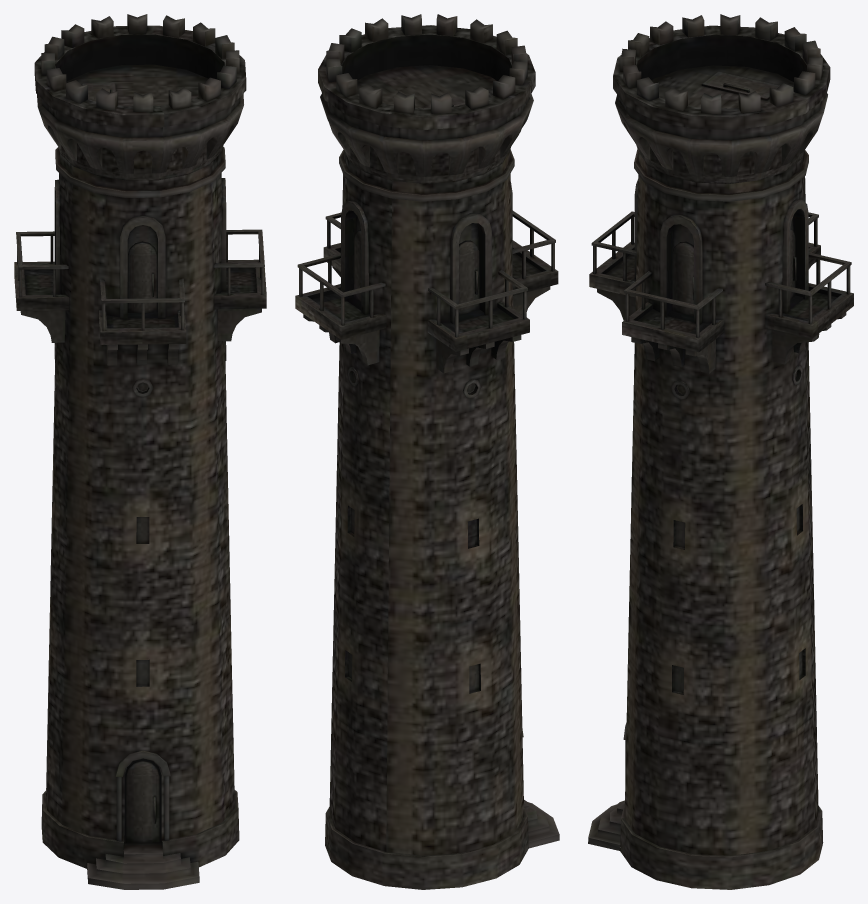
The model's file is kickelhahn_tower.glb.
3 views of the same model, side by side, from view 1: azimuth 30°, elevation 25°; view 2: azimuth 150°, elevation 25°; view 3: azimuth 270°, elevation 25° (orthographic).
Parts seen in each view (by area): view 1: KH_TowerHigh.003; view 2: KH_TowerHigh.003; view 3: KH_TowerHigh.003.
Boxes of the visible parts, left/top/right/bottom form: KH_TowerHigh.003: left=14, top=14, right=266, bottom=889; KH_TowerHigh.003: left=295, top=14, right=559, bottom=889; KH_TowerHigh.003: left=588, top=14, right=853, bottom=889.
Bounding box in the file's own units: 7.29 × 24.03 × 7.33.
Materials: 1 (1 with a texture image).
